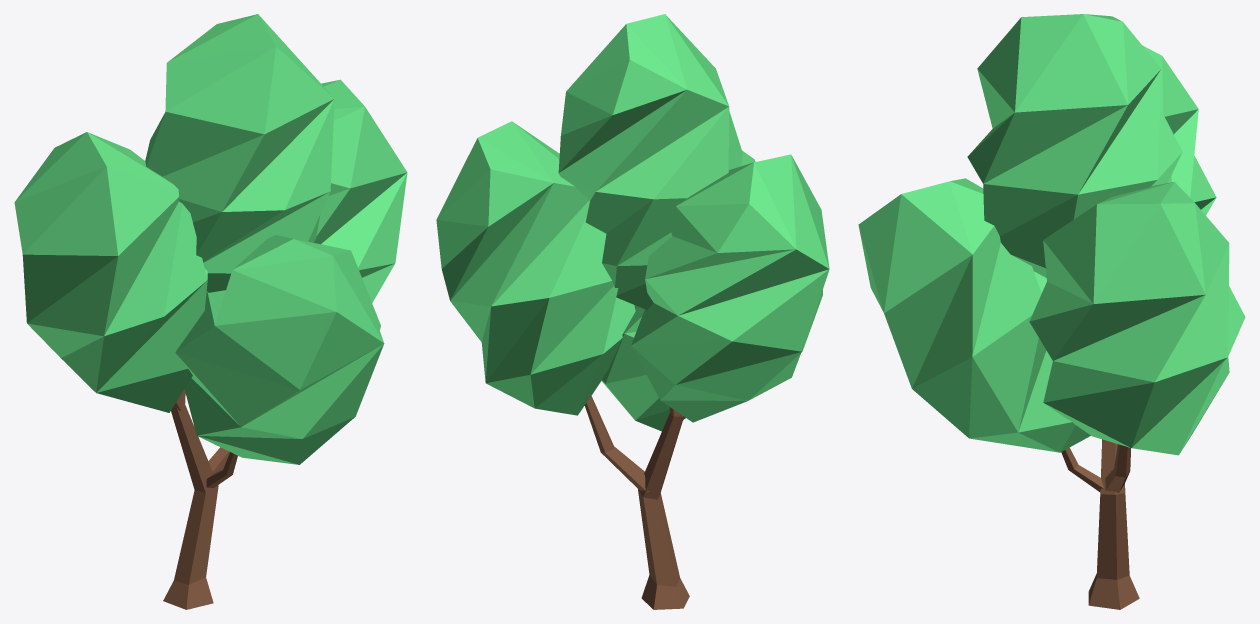
Rendered from tree_t_1.fbx.
3 views of the same model, side by side, from view 1: azimuth 30°, elevation 25°; view 2: azimuth 150°, elevation 25°; view 3: azimuth 270°, elevation 25° (orthographic). The views are drawn at different scales.
Visible parts, largest first — view 1: tree_twist_1; view 2: tree_twist_1; view 3: tree_twist_1.
Boxes of the visible parts, x1,y1,x2,y2 form: tree_twist_1: (14, 14, 407, 609); tree_twist_1: (436, 14, 829, 609); tree_twist_1: (858, 14, 1245, 609).
Bounding box in the file's own units: 683 × 988 × 565.
